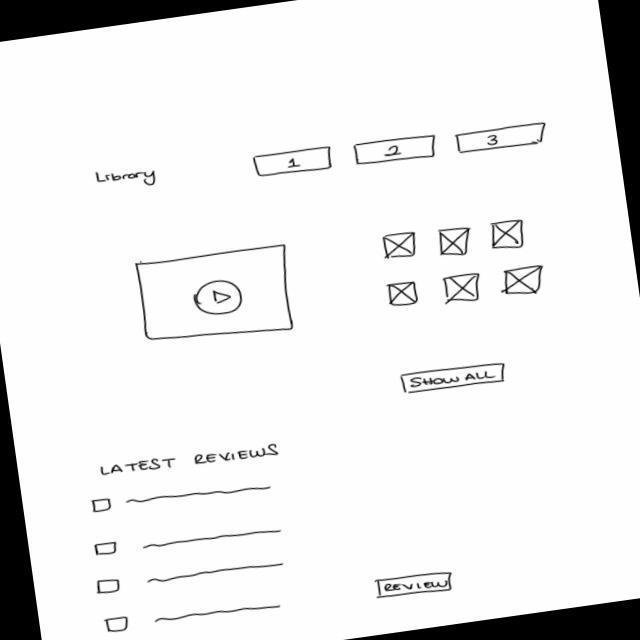button: (401, 360, 510, 400), (455, 121, 551, 156), (352, 133, 440, 170), (374, 567, 458, 602), (253, 145, 335, 180)
checkbox: (93, 517, 284, 562), (96, 554, 287, 597), (89, 474, 274, 517), (104, 593, 284, 637)
image: (500, 263, 550, 300), (442, 272, 485, 307), (489, 218, 529, 254), (437, 225, 475, 261), (381, 230, 420, 261), (387, 280, 422, 311)
label: (99, 440, 287, 483), (94, 164, 162, 197)
